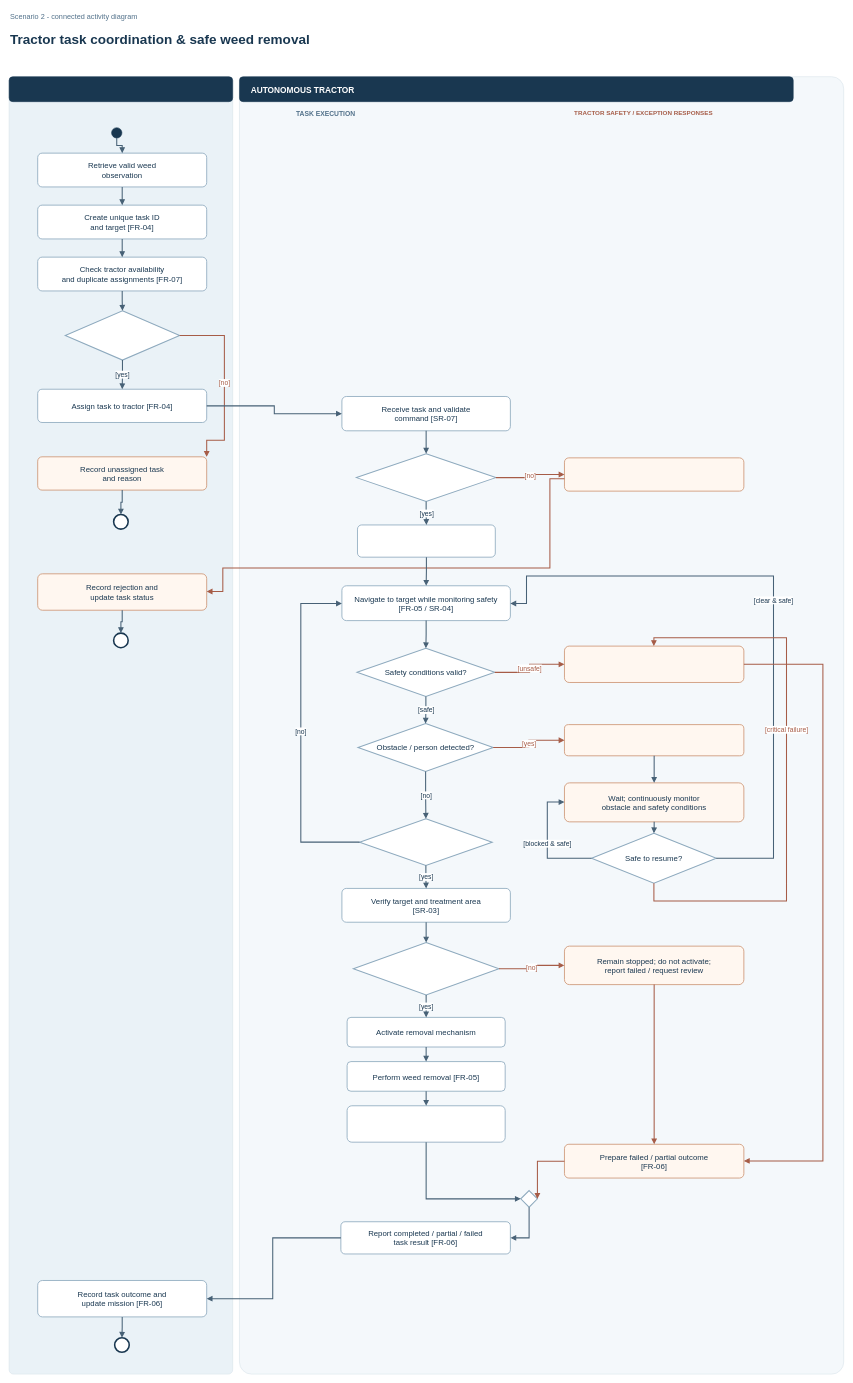
The diagram is 853 pixels wide and 1383 high, and some of its shapes have lost their labels. The centre of each missing label's shape, as x and y in pixels:
"Acknowledge task" belongs at point (426, 540).
"Assignment possible?" belongs at point (122, 335).
"CONTROL STATION" belongs at point (121, 89).
"Deactivate mechanism; assess completed or partial result" belongs at point (425, 1123).
"Reject command; report rejection reason" belongs at point (654, 474).
"Stop tractor [SR-01]" belongs at point (654, 740).
"Stop; disable mechanism; enter safe state [SR-04–06]" belongs at point (654, 664).
"Target reached?" belongs at point (425, 842).
"Target verified and tractor stationary? [SR-02/03]" belongs at point (426, 968).
"Task valid and accepted?" belongs at point (426, 477).
